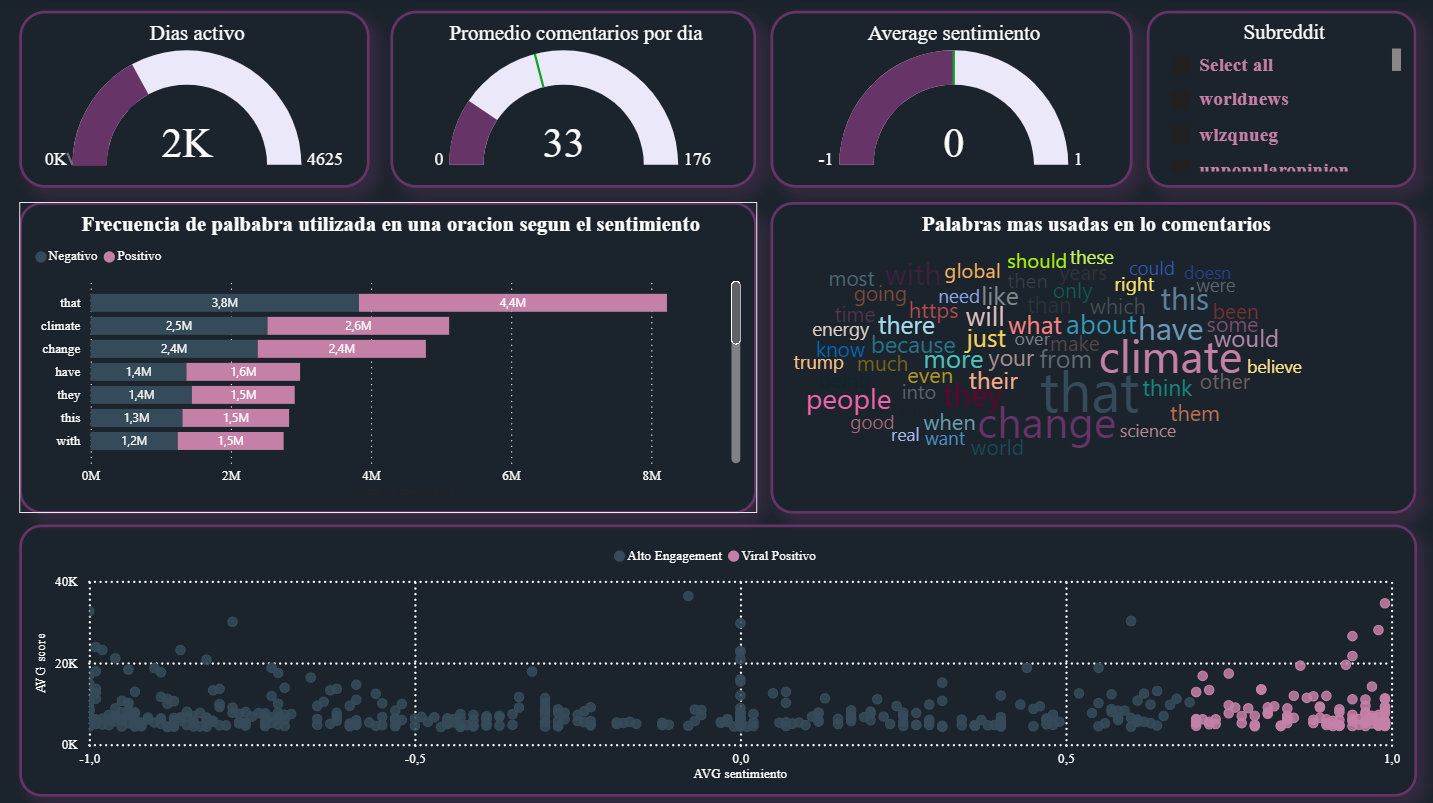

What the dashboard file says about the page in this screenshot:
{"tool":"powerbi","page":{"name":"Page 3","canvas":[1280,720],"ordinal":2},"visuals":[{"type":"barChart","title":"Frecuencia de palbabra utilizada en una oracion segun el sentimiento","fields":{"Category":["public top_palabras_sentimiento.word"],"Y":["Sum(public top_palabras_sentimiento.frecuencia)"],"Series":["public top_palabras_sentimiento.sentiment_categoria"]},"box":[9,67.1,531.4,292.9],"z":0},{"type":"WordCloud1447959067750","title":"Palabras mas usadas en lo comentarios","fields":{"Category":["public top_palabras_sentimiento.word"],"Values":["Sum(public top_palabras_sentimiento.frecuencia)"]},"box":[550.3,67.5,498.8,292.5],"z":1000},{"type":"textbox","box":[0,0,1061.2,67.5],"z":2000},{"type":"textbox","box":[0,370,1048.8,71.2],"z":3000},{"type":"gauge","title":"Average sentimiento","fields":{"MinValue":["public comparativa_subreddits.Sentimiento_Min"],"MaxValue":["Reddit_MasPopulares.Sentimiento_Max"],"TargetValue":["Reddit_MasPopulares.Sentimiento_Target"],"Y":["Avg(Reddit_MasPopulares.sentiment_promedio)"]},"box":[1065.8,273.6,195,162.5],"z":4000},{"type":"gauge","title":"Promedio comentarios por dia","fields":{"TargetValue":["Reddit_MasPopulares.ComentariosDia_Target_Popular"],"Y":["Avg(Reddit_MasPopulares.comentarios_por_dia)"],"MaxValue":["Reddit_MasPopulares.ComentariosD_Max"]},"box":[1065,108.5,195,162.5],"z":5000},{"type":"gauge","title":"Dias activo ","fields":{"MaxValue":["Reddit_MasPopulares.dias_Activo_Max"],"Y":["Avg(Reddit_MasPopulares.dias_activos)"]},"box":[1066,441.4,195,164],"z":6000},{"type":"slicer","fields":{"Values":["Reddit_MasPopulares.subreddit.name"]},"box":[1061.2,12.5,201.2,82.5],"z":7000},{"type":"scatterChart","title":"Score vs Sentimiento","fields":{"Series":["public comentarios_extremos.extremo_tipo"],"Category":["public comentarios_extremos.preview_texto"],"X":["Avg(public comentarios_extremos.sentiment)"],"Y":["Avg(public comentarios_extremos.score)"]},"box":[0,442.5,1048.8,277.5],"z":8000}]}

Visuals, with their boxes in screenshot pixels (x1, y1, x2, y2), scaled from the page's 1280x720 canvas onto the 1433x803 screenshot:
"Frecuencia de palbabra utilizada en una oracion segun el sentimiento" barChart: region(10, 75, 605, 402)
"Palabras mas usadas en lo comentarios" WordCloud1447959067750: region(616, 75, 1175, 402)
textbox: region(0, 0, 1188, 75)
textbox: region(0, 413, 1174, 492)
"Average sentimiento" gauge: region(1193, 305, 1412, 486)
"Promedio comentarios por dia" gauge: region(1192, 121, 1411, 302)
"Dias activo " gauge: region(1193, 492, 1412, 675)
slicer - Reddit_MasPopulares.subreddit.name: region(1188, 14, 1413, 106)
"Score vs Sentimiento" scatterChart: region(0, 494, 1174, 802)
